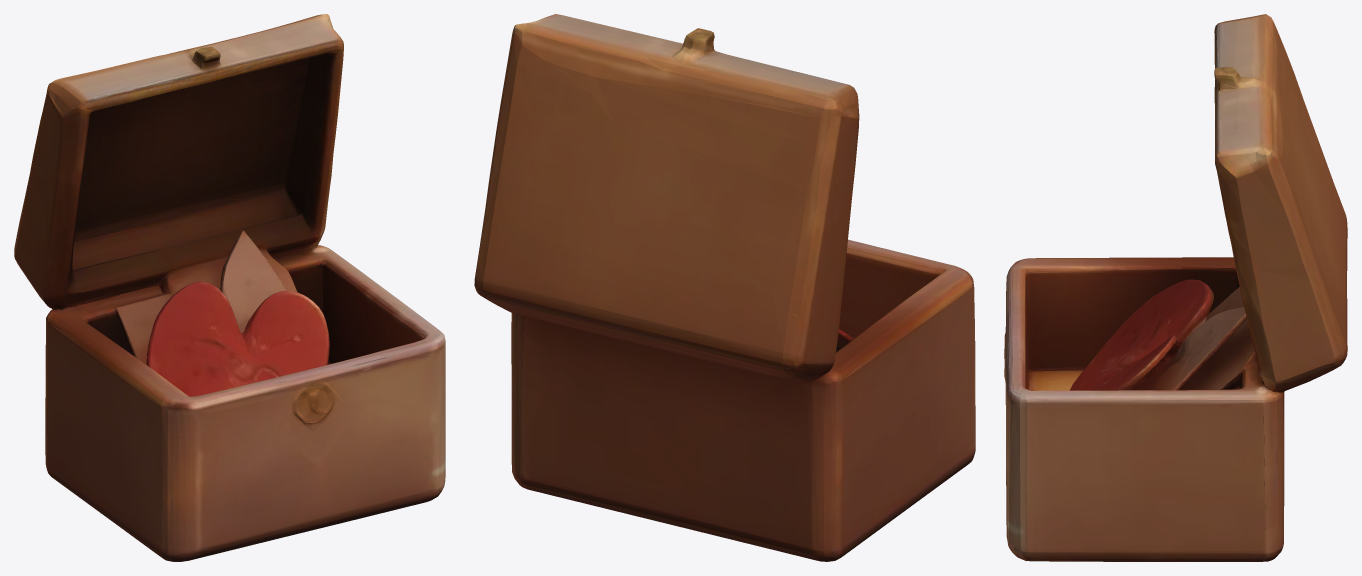
Rendered from deco-box_of_trinkets.glb.
3 views of the same model, side by side, from view 1: azimuth 30°, elevation 25°; view 2: azimuth 150°, elevation 25°; view 3: azimuth 270°, elevation 25° (orthographic). The views are drawn at different scales.
Visible parts, largest first — view 1: world; view 2: world; view 3: world.
Boxes of the visible parts, box(x1,y1,x2,y2) form: world: box(14, 14, 445, 561); world: box(474, 14, 975, 561); world: box(1004, 14, 1347, 561).
Bounding box in the file's own units: 0.7289 × 0.9996 × 0.733.
Materials: 1 (1 with a texture image).
